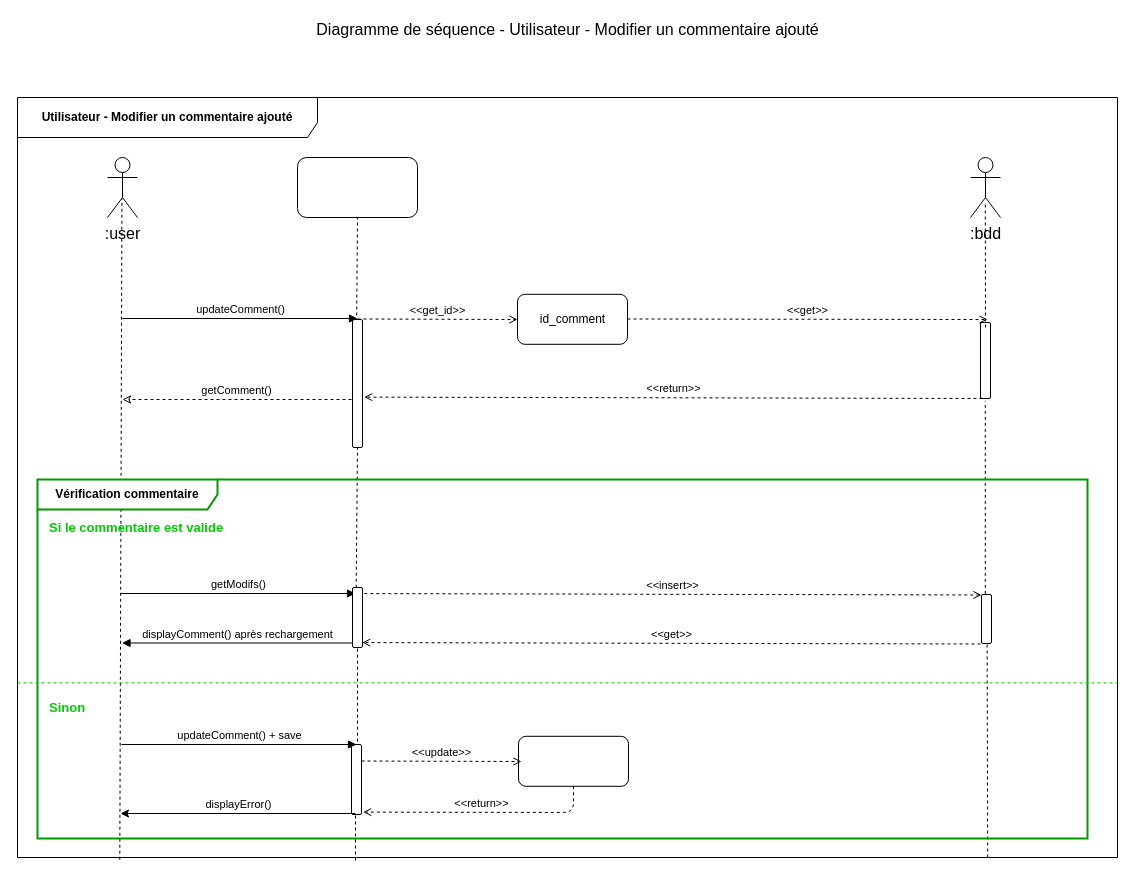
Image size: 1136x879. Some labels were removed from this diagram. Here are the shapes that lost their labels. From the top down, the centre of each, then its label:
point (357, 187): :system
point (573, 760): format non valide
